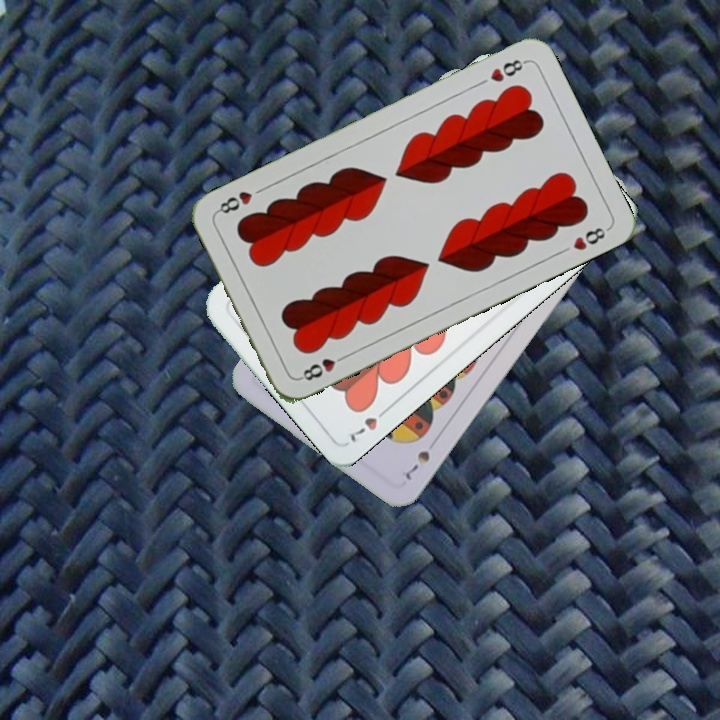H7: (346, 402, 393, 445)
H8: (295, 350, 350, 384), (486, 55, 530, 85)
S7: (398, 446, 433, 483)
